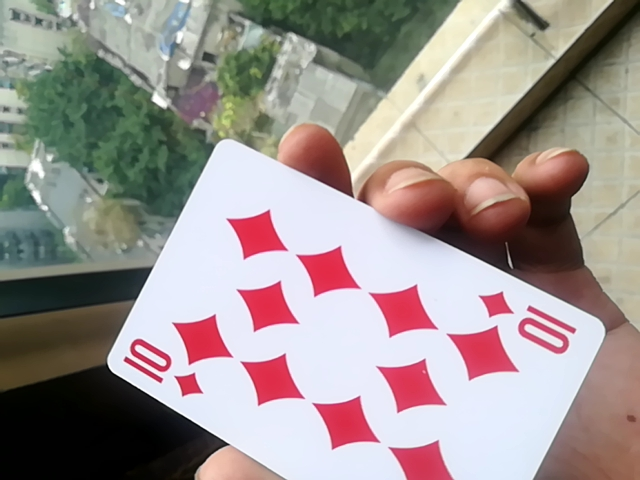fk 10: (102, 134, 608, 480)
